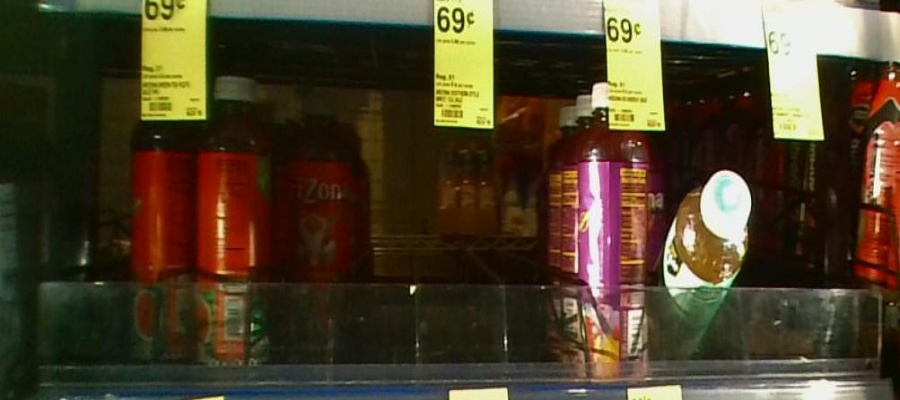bottle: (574, 70, 651, 389), (197, 67, 272, 376), (126, 76, 195, 369), (288, 80, 355, 366), (667, 160, 750, 371)
